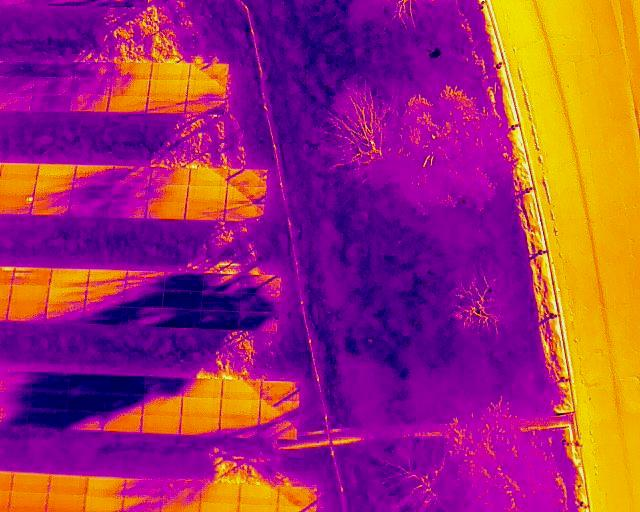Cell: (0, 196, 34, 214)
Cell-Multi: (12, 267, 50, 286)
No-Anomaly: (8, 492, 47, 512), (140, 415, 180, 434), (181, 398, 220, 417), (10, 473, 49, 492), (87, 477, 125, 496), (9, 285, 47, 304), (220, 399, 260, 416), (239, 485, 279, 502), (49, 476, 86, 494), (202, 483, 239, 501), (147, 202, 186, 219), (187, 185, 226, 202), (109, 96, 147, 113), (149, 80, 189, 96), (47, 495, 86, 511), (0, 164, 39, 180), (86, 495, 124, 511), (152, 63, 189, 79), (0, 179, 35, 195), (38, 165, 74, 180)
Shadowing: (219, 417, 259, 438), (8, 303, 47, 324), (259, 419, 298, 439), (163, 308, 202, 328), (47, 304, 87, 323), (185, 202, 225, 221), (261, 382, 300, 401), (179, 417, 218, 436), (127, 271, 166, 290), (242, 275, 281, 294), (125, 288, 164, 307), (151, 166, 190, 185), (107, 376, 144, 396), (181, 380, 222, 398), (68, 198, 109, 216), (185, 96, 226, 114), (29, 410, 67, 429), (240, 312, 278, 331), (68, 393, 106, 412), (29, 391, 67, 410), (241, 293, 279, 312), (203, 274, 241, 293), (125, 307, 163, 326), (221, 381, 261, 399), (279, 487, 316, 506), (164, 480, 201, 499), (87, 306, 124, 325), (87, 287, 124, 306), (260, 401, 299, 419), (30, 373, 69, 391), (104, 395, 143, 413), (103, 414, 142, 432), (108, 200, 147, 218), (163, 291, 202, 309), (112, 167, 151, 185), (143, 378, 181, 396), (70, 374, 106, 393), (142, 397, 180, 415), (125, 479, 163, 497), (33, 196, 69, 215), (51, 269, 89, 287), (72, 180, 110, 198), (70, 94, 108, 112), (147, 185, 187, 202), (114, 62, 151, 80), (112, 79, 149, 97), (202, 311, 239, 329), (225, 205, 264, 222), (149, 96, 188, 113), (202, 293, 240, 310), (229, 169, 267, 186), (166, 273, 203, 290), (72, 78, 111, 94), (187, 80, 226, 96), (227, 187, 266, 203), (48, 287, 87, 303), (74, 165, 113, 181), (31, 94, 70, 110), (189, 169, 228, 185), (68, 412, 104, 429), (34, 78, 72, 94), (89, 270, 126, 286), (110, 183, 147, 199), (34, 181, 71, 197), (39, 61, 75, 77), (75, 61, 113, 76), (124, 497, 162, 512), (190, 65, 227, 80)
